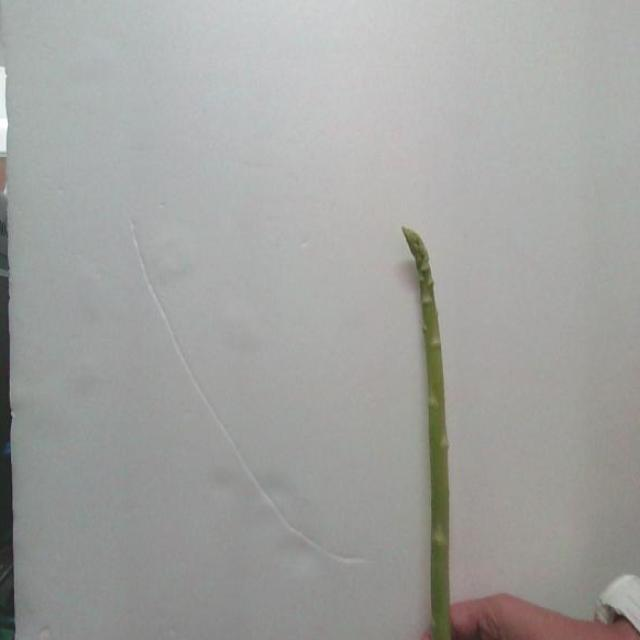aspargus: (402, 228, 454, 640)
